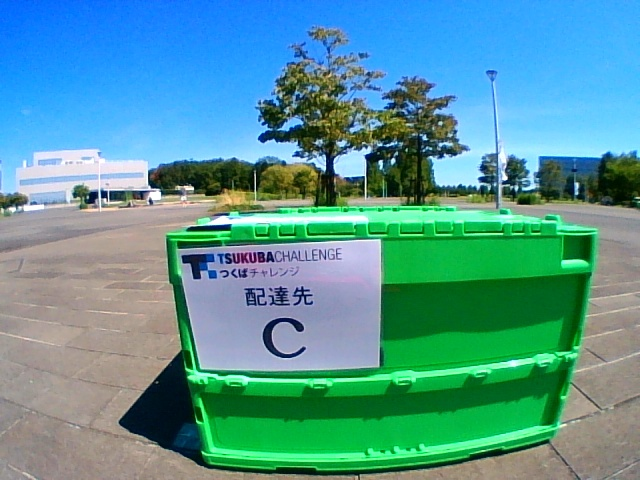green_box: (166, 205, 596, 471)
tag_c: (215, 248, 363, 370)
